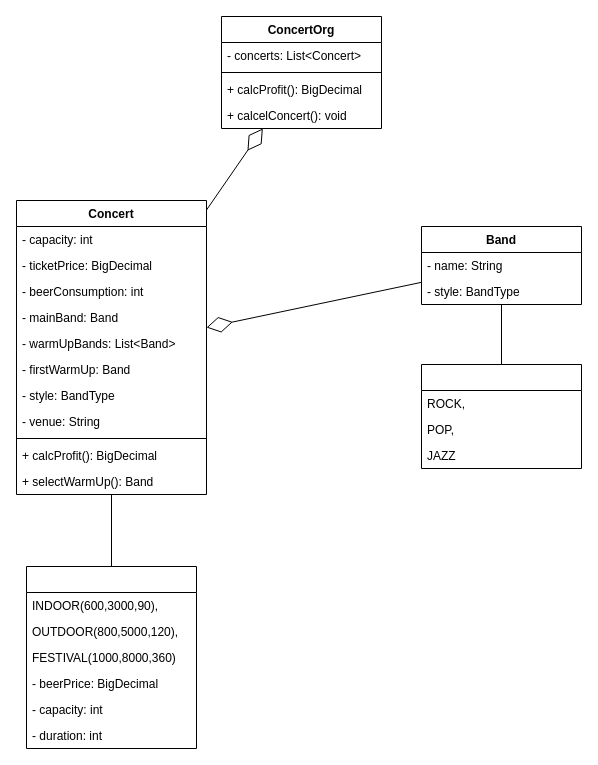
This 598x765 diagram has some shape labels left out. The box of each missing label's shape, as (x1, y1, x2, y2) in pixels:
BandType: (420, 364, 582, 468)
ConcertType: (26, 566, 196, 748)
